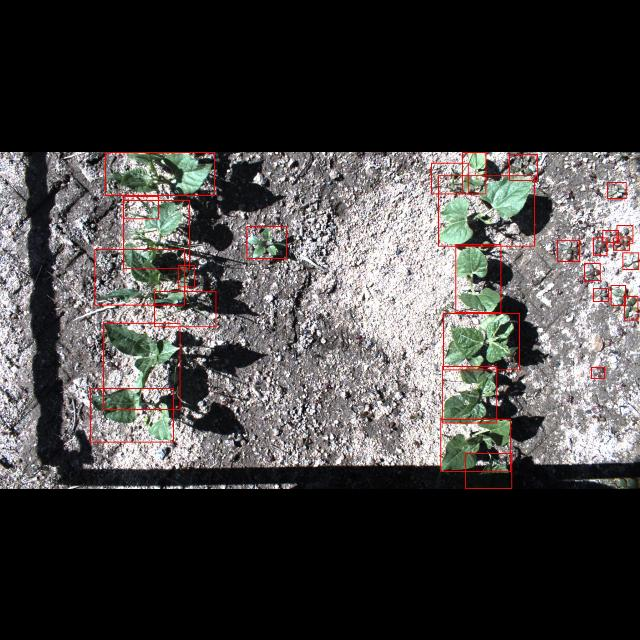crop: (438, 174, 534, 246), (104, 322, 180, 410), (95, 248, 185, 304), (106, 152, 214, 194), (90, 388, 174, 442), (124, 200, 190, 268), (443, 312, 519, 370), (441, 419, 511, 471), (442, 366, 496, 422), (456, 244, 500, 312), (464, 454, 512, 488), (462, 151, 486, 193)
weed: (154, 290, 216, 326), (247, 226, 287, 258), (432, 162, 468, 192), (124, 196, 158, 218), (509, 153, 537, 179), (556, 239, 580, 261), (178, 264, 194, 286), (624, 295, 638, 319), (610, 285, 626, 305), (584, 262, 600, 280), (617, 225, 633, 243), (608, 182, 626, 198), (623, 252, 639, 268), (593, 238, 607, 255), (614, 237, 630, 249), (602, 230, 618, 242), (594, 288, 608, 300), (591, 367, 605, 378)
